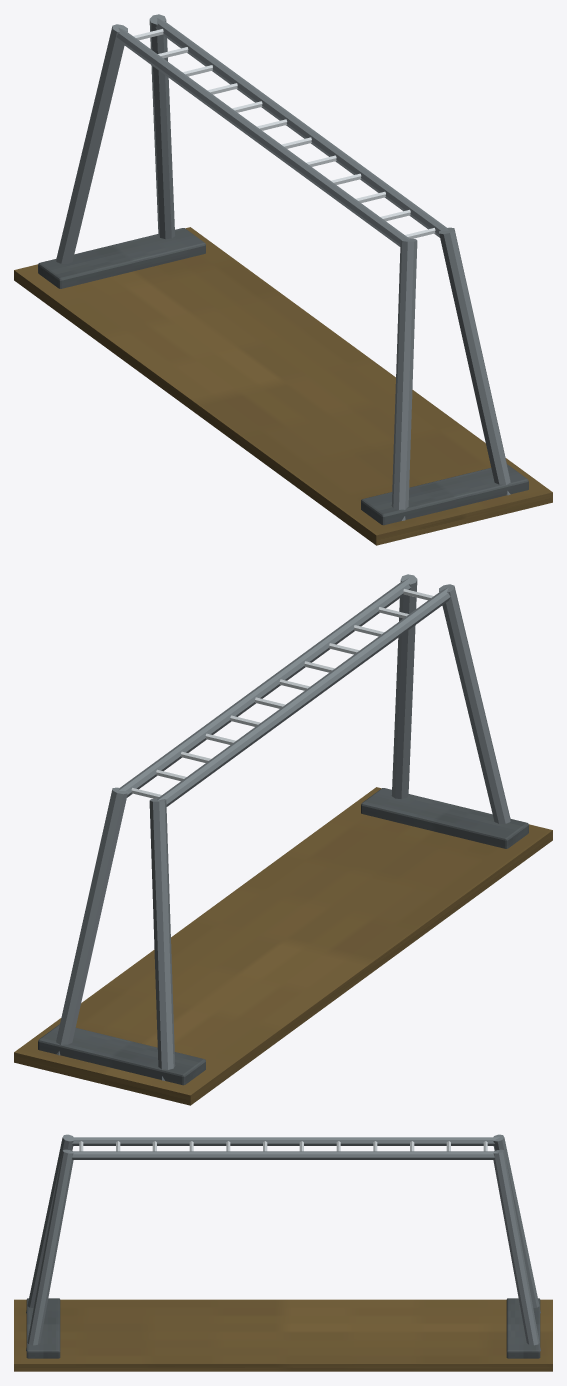
File: fac_obst_bars.glb
The picture shows the model from 3 angles, top to bottom: view 1: azimuth 30°, elevation 25°; view 2: azimuth 150°, elevation 25°; view 3: azimuth 270°, elevation 25°; orthographic projection. The views are drawn at different scales.
Parts seen in each view (by area): view 1: FAC_OBST_BARS; view 2: FAC_OBST_BARS; view 3: FAC_OBST_BARS.
Part boxes in pixels (left/top/right/bottom): FAC_OBST_BARS: left=14, top=14, right=552, bottom=545; FAC_OBST_BARS: left=14, top=574, right=552, bottom=1105; FAC_OBST_BARS: left=14, top=1134, right=552, bottom=1371.
Bounding box in the file's own units: 1.8 × 2.58 × 6.4.
4 materials, 2 textured.
